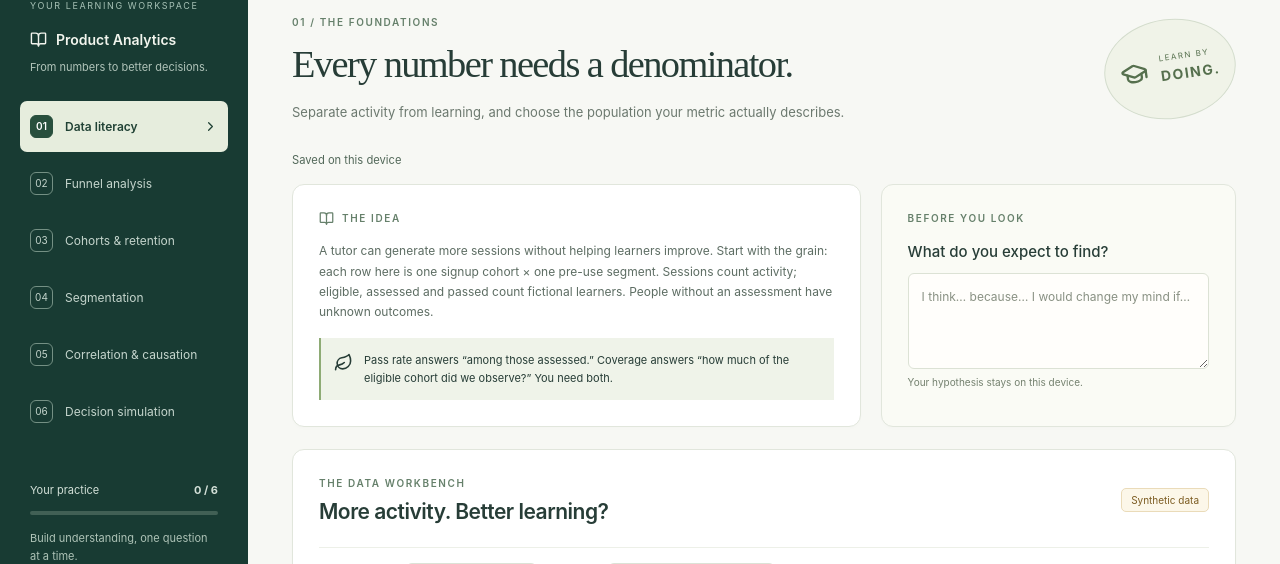
Test: M4 filters and reweights the explorer without altering locked assessments
This screenshot has width=1280, height=564.
Step 1. Click the button "04 Segmentation" → [124, 297], box [20,272,228,323]
(page scrolled)
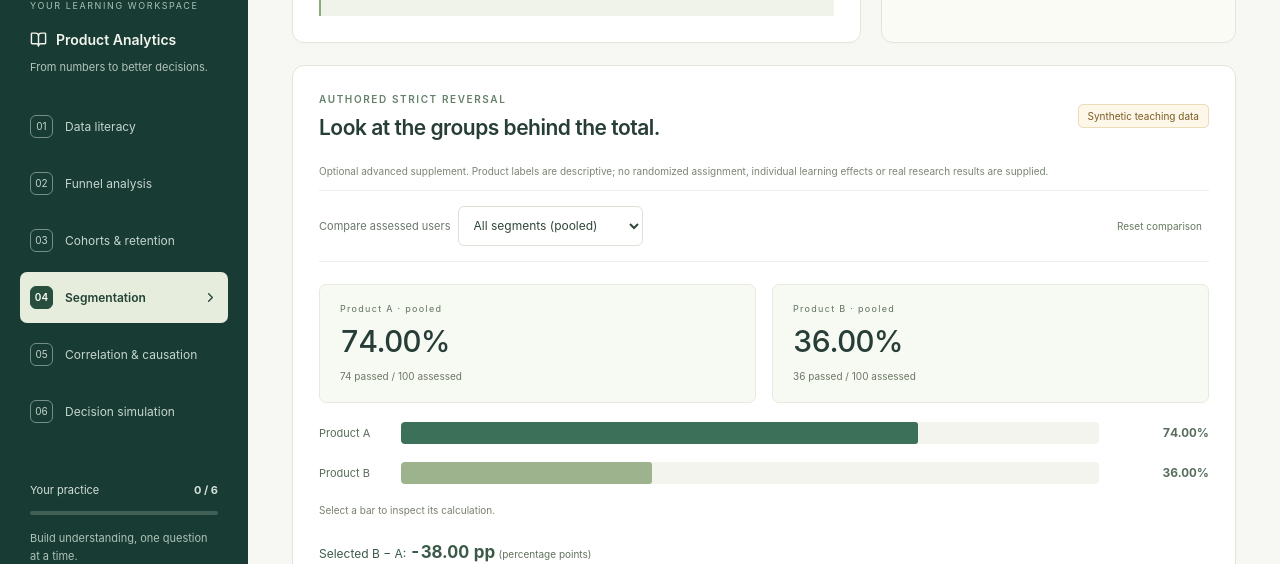
Check: the text "36 passed / 100 assessed" is shown, box [793,370,916,382]
Step 2. Select "Novice only" in the dropdown labelled "Compare assessed users" → [551, 226], box [458,206,644,246]
(page scrolled)
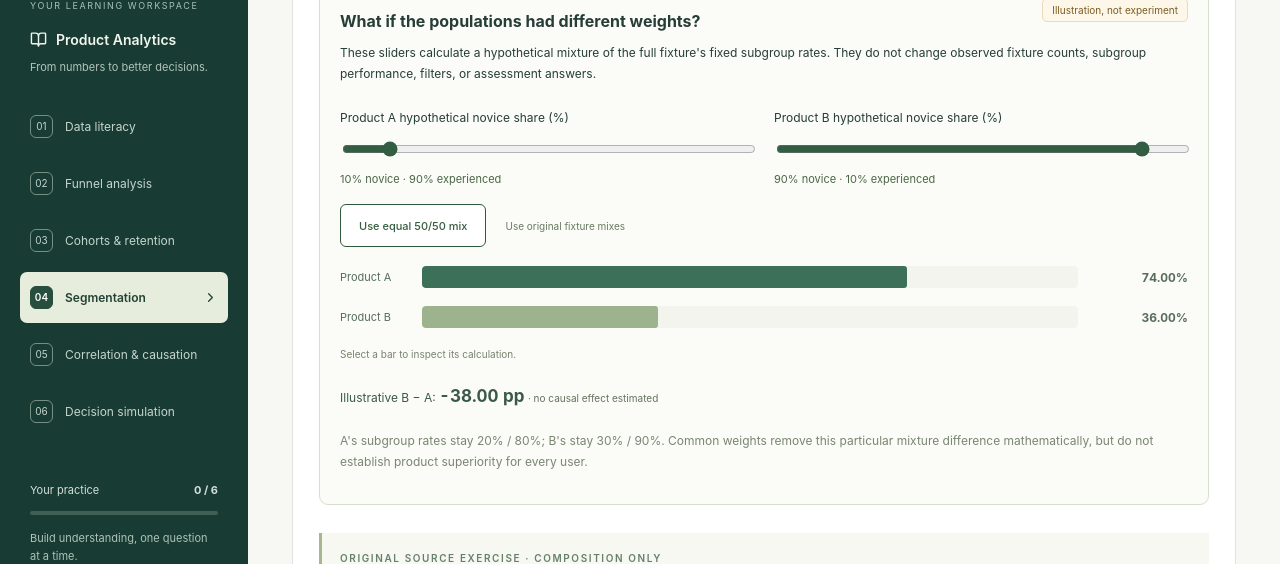
Step 3. Click the button "Use equal 50/50 mix" → [413, 226], box [340,204,486,247]
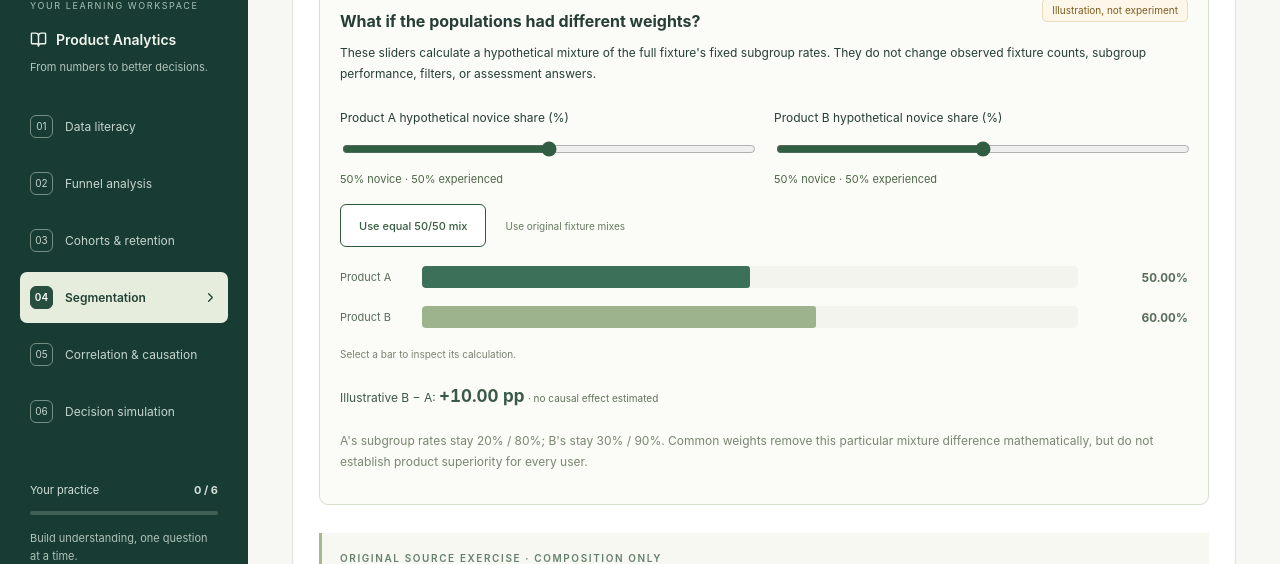
Check: the button "Product B 60.00%" is shown, box [340,297,1188,337]
Step 4. Set the slider labelled "Product A hypothetical novice share (%)" to "100" → [748, 149], box [342,129,756,169]
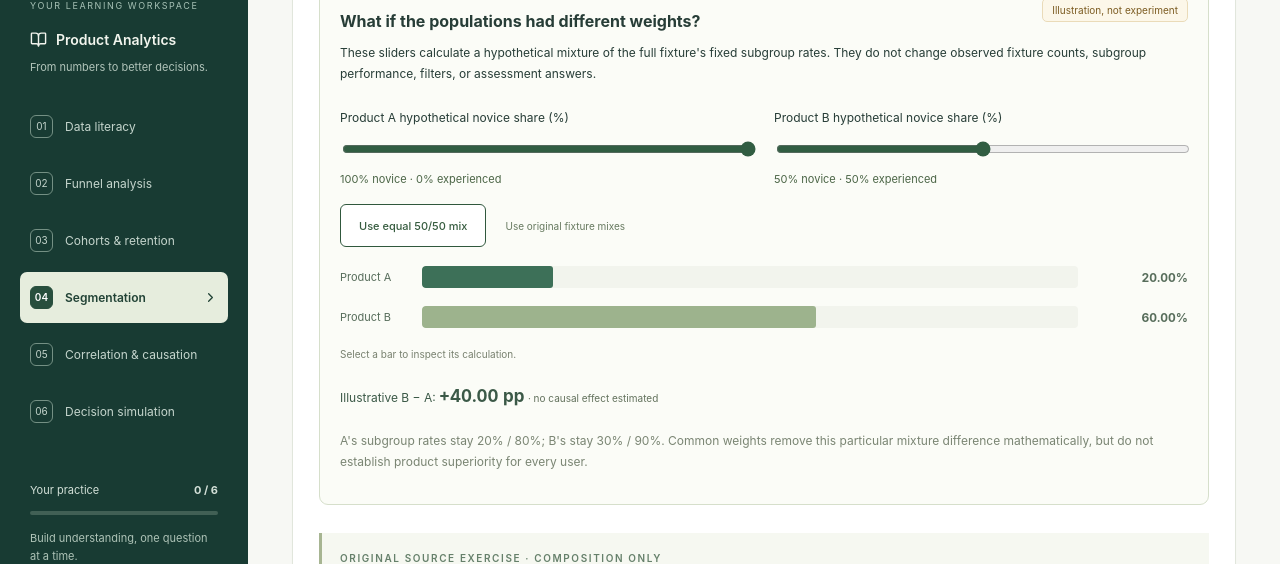
Check: the button "Product A 20.00%" is shown, box [340,257,1188,297]
Step 5. Click the button "Use original fixture mixes" → [565, 226], box [498,206,632,246]
(page scrolled)
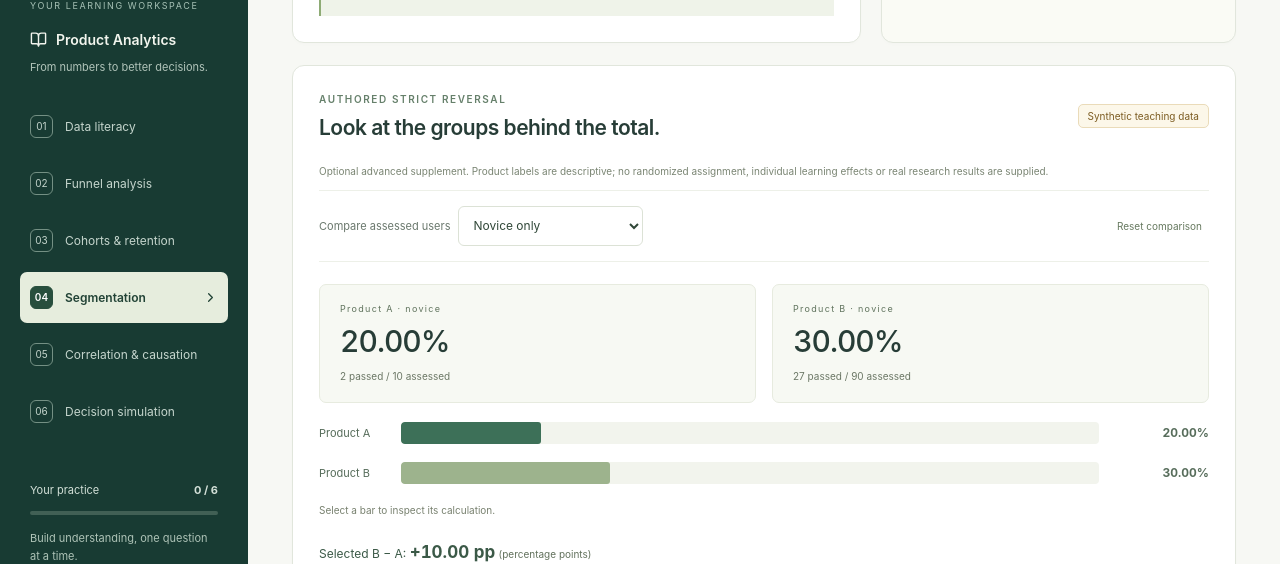
Step 6. Click the button "Reset comparison" → [1159, 226], box [1110,206,1209,246]
(page scrolled)
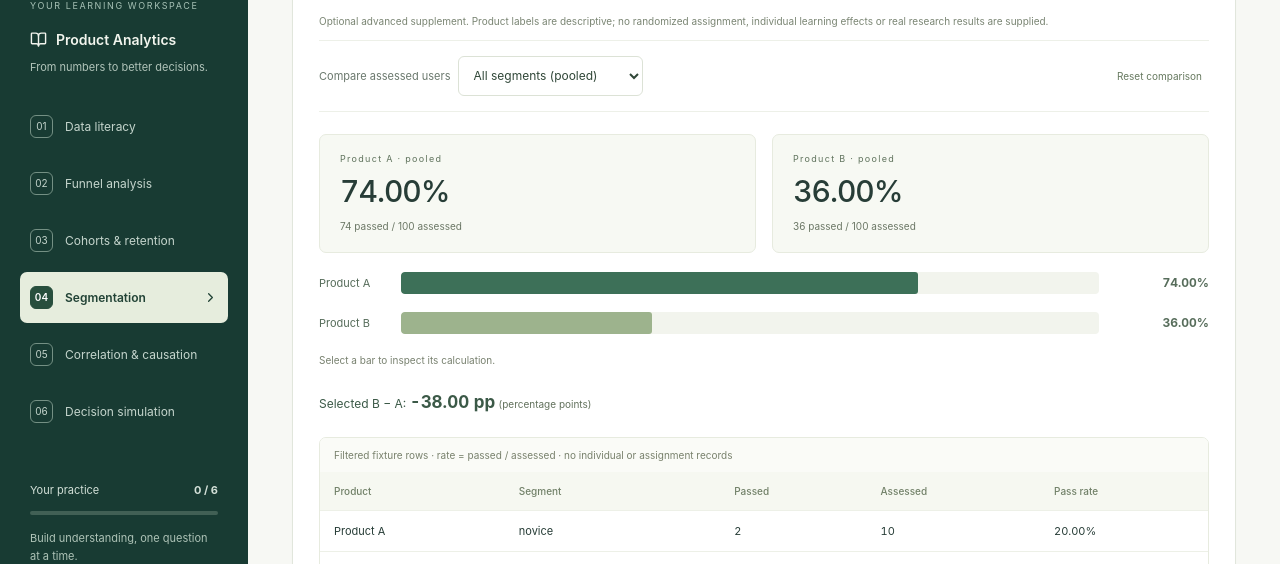
Check: the text "36 passed / 100 assessed" is shown, box [793,220,916,232]
